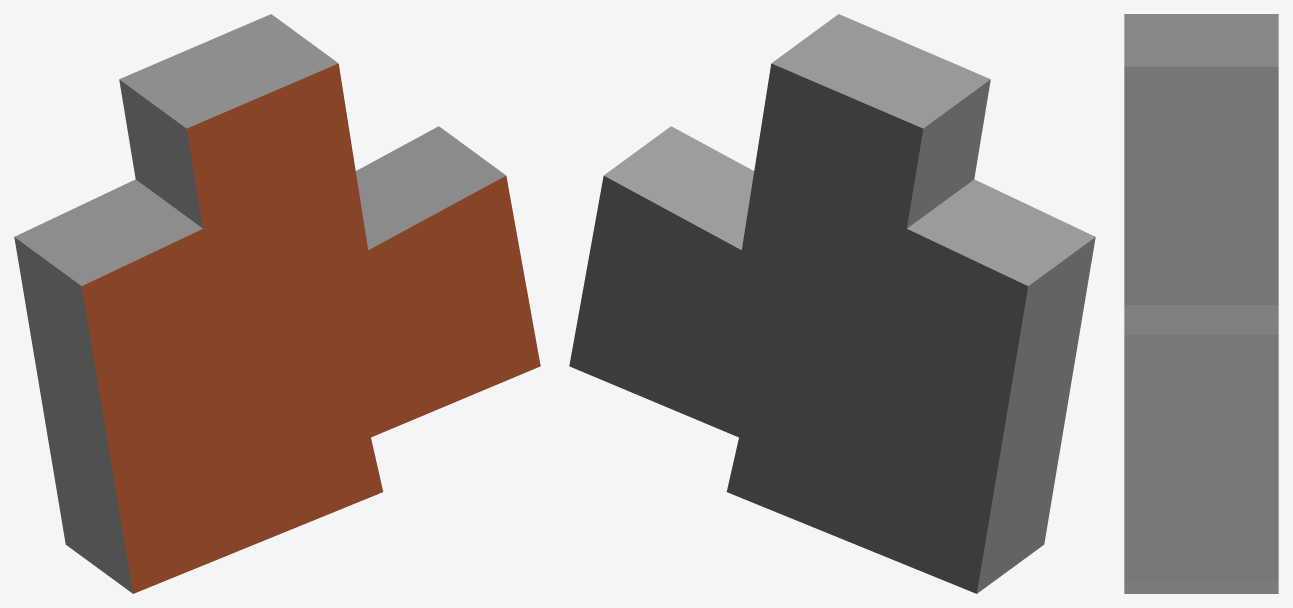
File: construction_0606_assumed_A_Casa_h6m.obj
The picture shows the model from 3 angles, left to right: view 1: azimuth 30°, elevation 25°; view 2: azimuth 150°, elevation 25°; view 3: azimuth 270°, elevation 25°; orthographic projection. The views are drawn at different scales.
Parts seen in each view (by area): view 1: construction_0606_assumed_A_Casa; view 2: construction_0606_assumed_A_Casa; view 3: construction_0606_assumed_A_Casa.
Boxes of the visible parts, x1,y1,x2,y2 form: construction_0606_assumed_A_Casa: [14, 14, 540, 593]; construction_0606_assumed_A_Casa: [569, 14, 1095, 593]; construction_0606_assumed_A_Casa: [1124, 14, 1278, 593].
Bounding box in the file's own units: 23.56 × 23.57 × 6.
